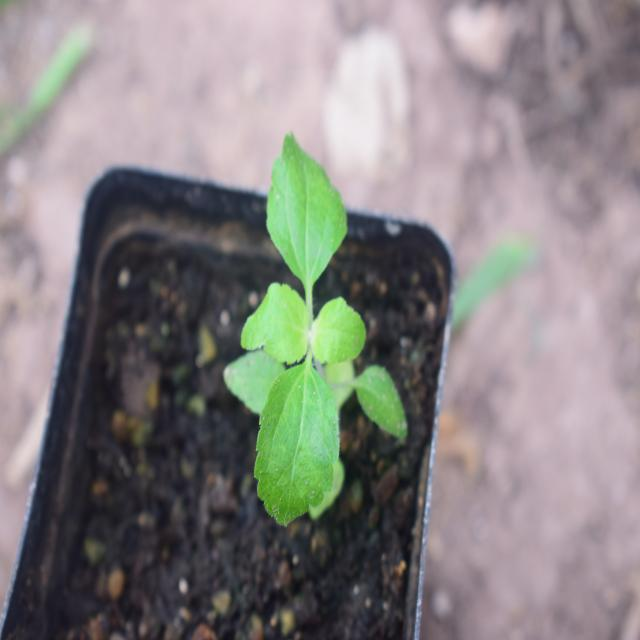billygoat_weed: (243, 158, 377, 511)
